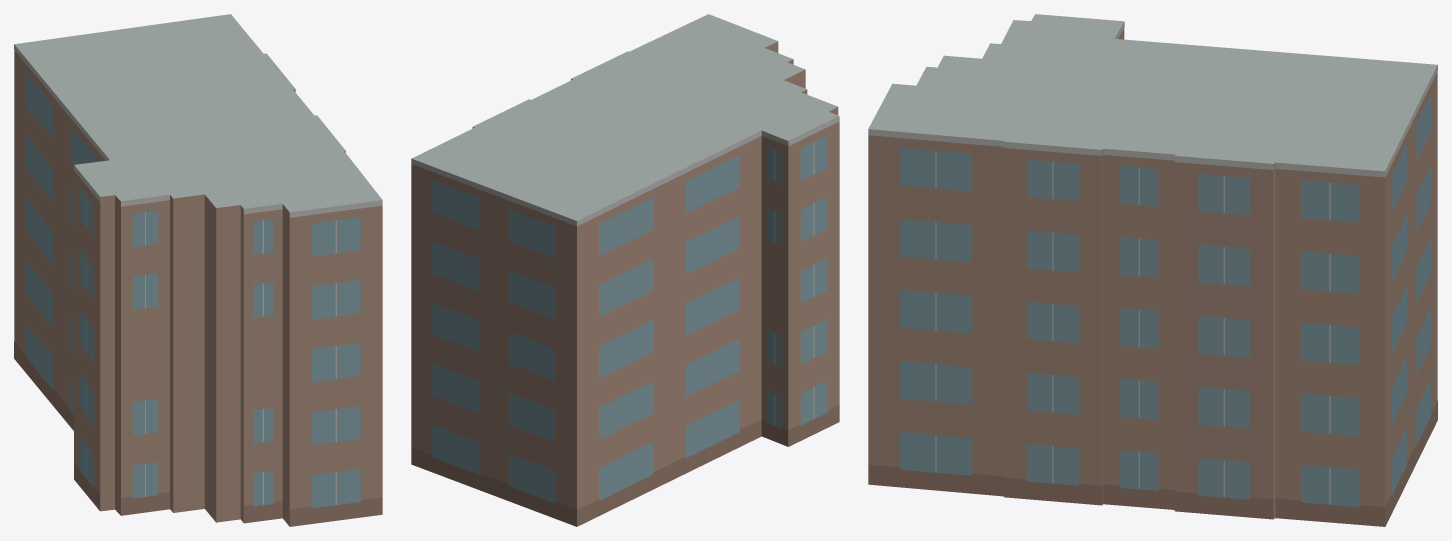
File: survey-upis-32666119.glb
3 views of the same model, side by side, from view 1: azimuth 30°, elevation 25°; view 2: azimuth 150°, elevation 25°; view 3: azimuth 270°, elevation 25° (orthographic). The views are drawn at different scales.
Visible parts, largest first — view 1: survey-upis-32666119.tmp; view 2: survey-upis-32666119.tmp; view 3: survey-upis-32666119.tmp.
Part boxes in pixels (box(x1,y1,x2,y2)): survey-upis-32666119.tmp: box(14, 14, 382, 526); survey-upis-32666119.tmp: box(411, 14, 839, 526); survey-upis-32666119.tmp: box(868, 14, 1437, 526).
Size of the model in its own units: 13.4 by 14.1 by 20.49.
